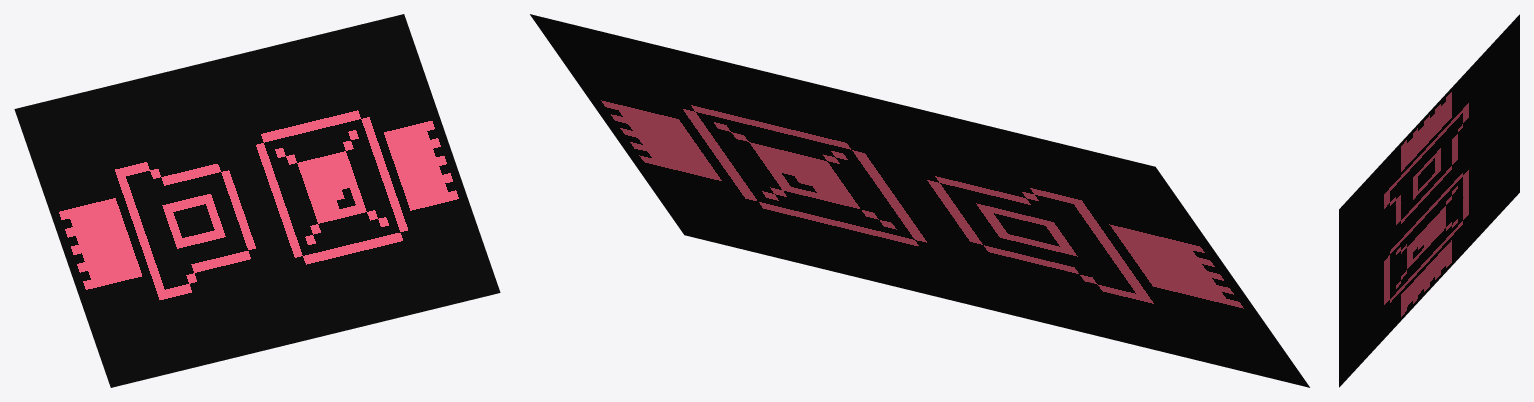
File: screen.gltf
The picture shows the model from 3 angles, left to right: view 1: azimuth 30°, elevation 25°; view 2: azimuth 150°, elevation 25°; view 3: azimuth 270°, elevation 25°; orthographic projection. The views are drawn at different scales.
Parts seen in each view (by area): view 1: screen; view 2: screen; view 3: screen.
Boxes of the visible parts, box(x1,y1,x2,y2) form: screen: box(14, 14, 500, 387); screen: box(530, 14, 1309, 387); screen: box(1339, 14, 1519, 387).
Bounding box in the file's own units: 0.75 × 0.383 × 0.3214.
1 material, 1 textured.
